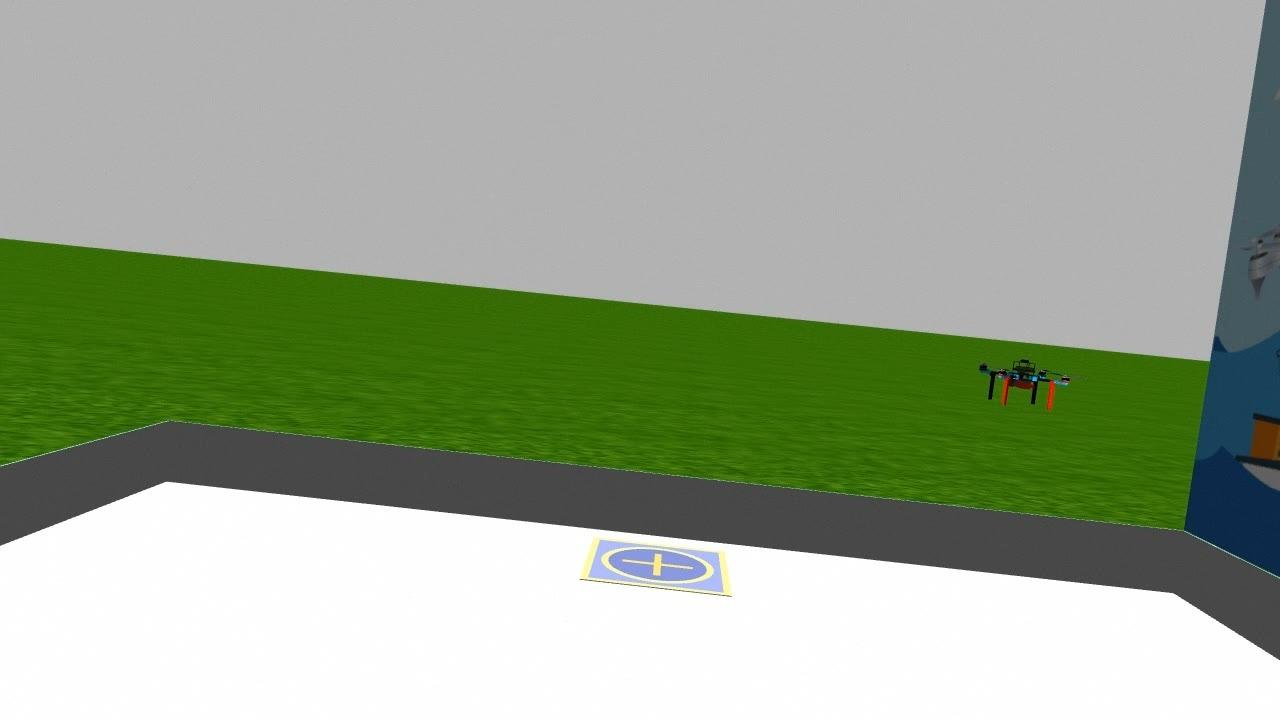UAV: (971, 348, 1079, 420)
